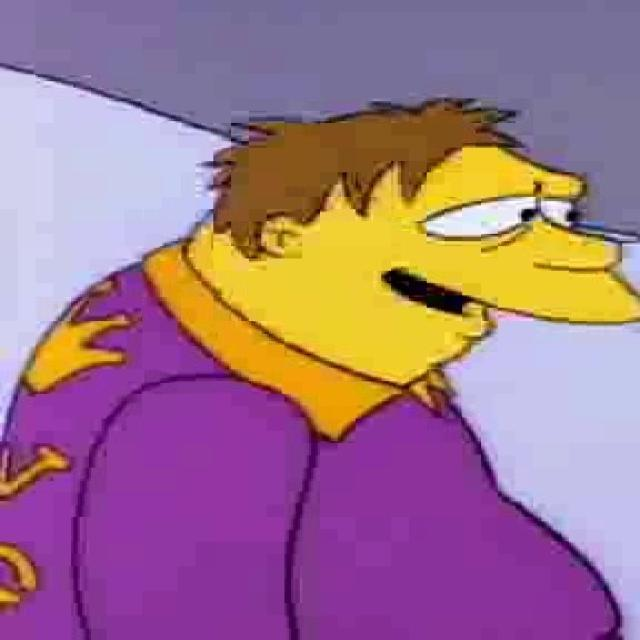Barney Gumble: (182, 90, 640, 404)
